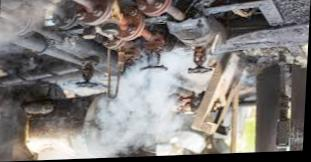leak: (66, 50, 217, 158)
